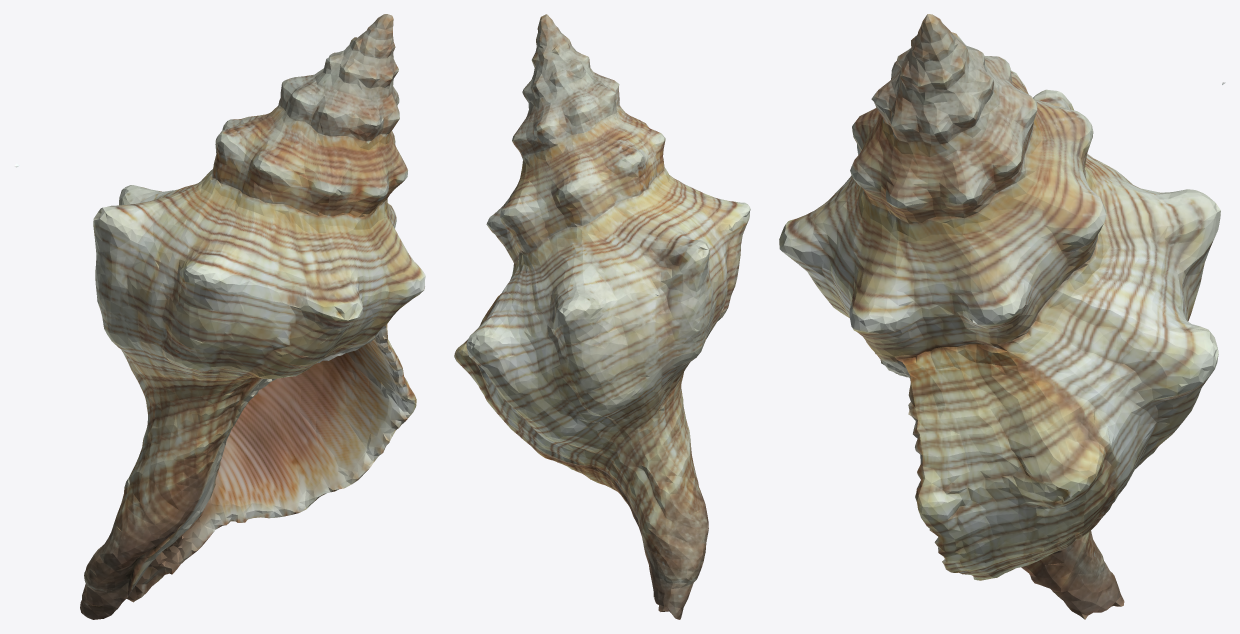
Rendered from HorseShell.fbx.
3 renders of one model, left to right at view 1: azimuth 30°, elevation 25°; view 2: azimuth 150°, elevation 25°; view 3: azimuth 270°, elevation 25°, orthographic. The views are drawn at different scales.
Visible parts, largest first — view 1: model; view 2: model; view 3: model.
Part boxes in pixels (x1,y1,x2,y2): model: (14, 14, 425, 619); model: (454, 14, 750, 619); model: (779, 14, 1225, 619).
Size of the model in its own units: 15.8 by 30.45 by 16.82.
